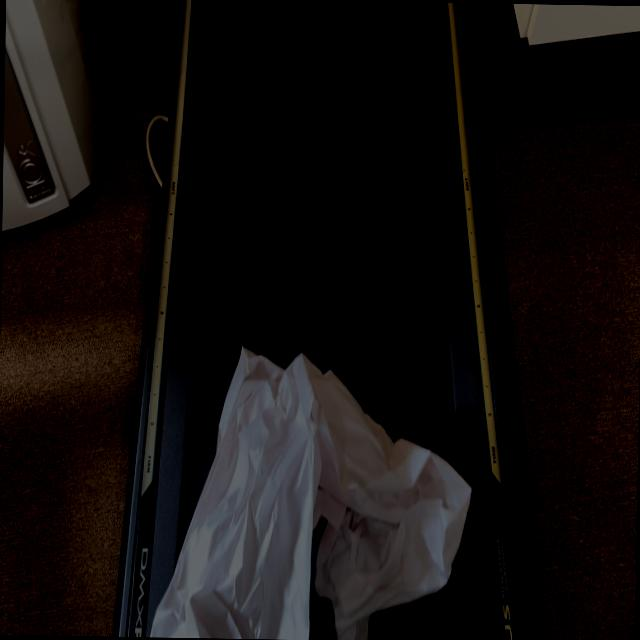Trash: (218, 348, 456, 640)
